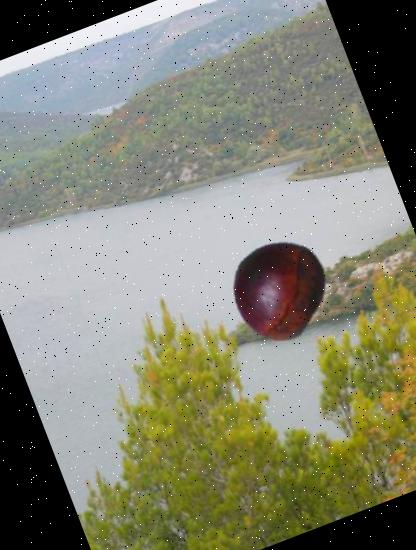Chestnut: (213, 223, 342, 352)
